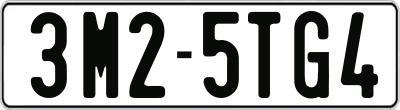2: (127, 11, 163, 103)
3: (28, 12, 65, 102)
4: (341, 9, 379, 97)
5: (202, 10, 243, 96)
G: (294, 8, 331, 95)
M: (82, 10, 118, 97)
T: (245, 10, 281, 97)
